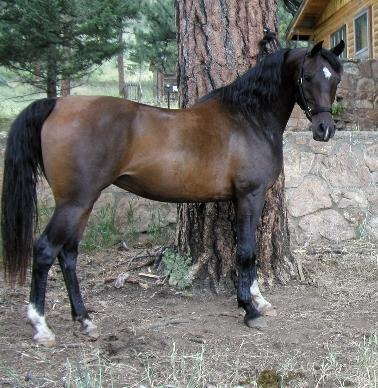horse: (0, 36, 345, 347)
